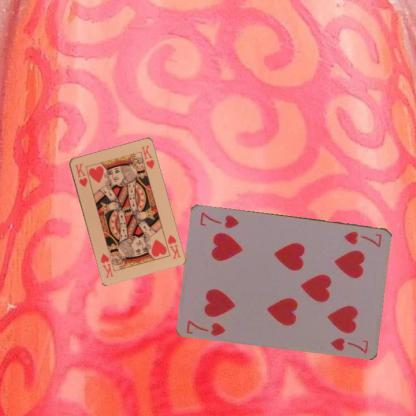7h: (342, 228, 383, 249), (184, 318, 227, 338)
Kh: (165, 232, 182, 260), (72, 161, 89, 188)
